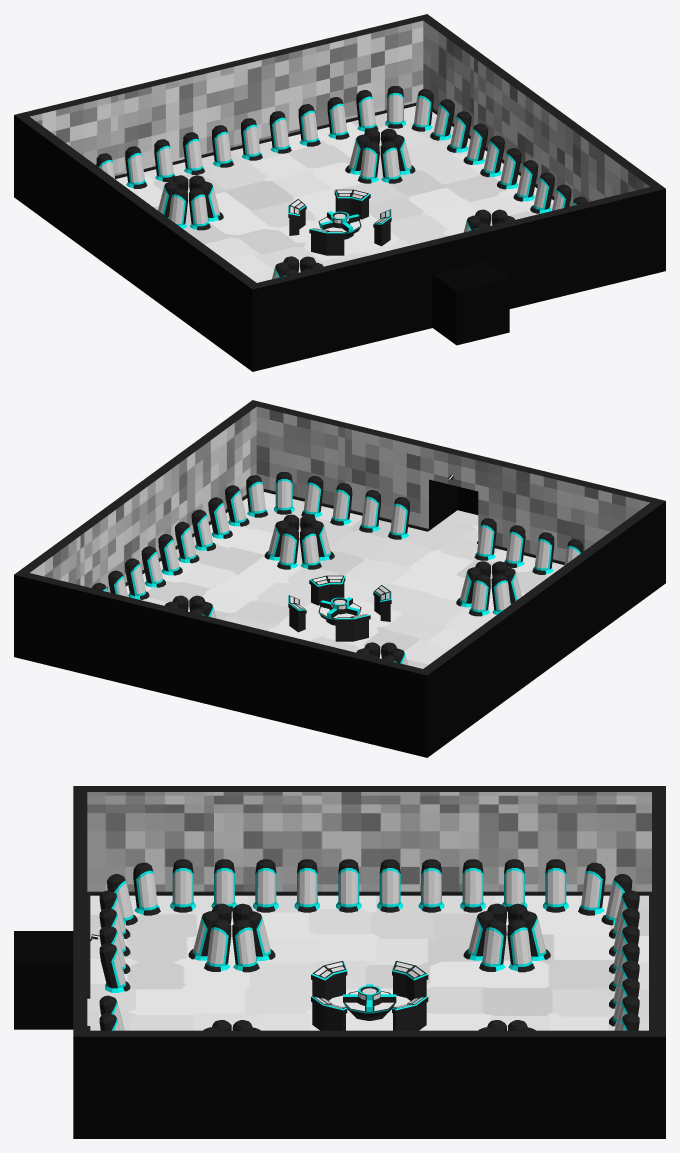
File: Hibernation_Room_1x1x1.fbx
3 views of the same model, one above another, from view 1: azimuth 30°, elevation 25°; view 2: azimuth 150°, elevation 25°; view 3: azimuth 270°, elevation 25° (orthographic). The views are drawn at different scales.
Parts seen in each view (by area): view 1: Hibernation_Room_1x1x1; view 2: Hibernation_Room_1x1x1; view 3: Hibernation_Room_1x1x1.
Boxes of the visible parts, bbox=[...] form: Hibernation_Room_1x1x1: bbox=[14, 14, 665, 371]; Hibernation_Room_1x1x1: bbox=[14, 400, 665, 757]; Hibernation_Room_1x1x1: bbox=[14, 786, 665, 1138].
Size of the model in its own units: 42 by 46.2 by 8.
